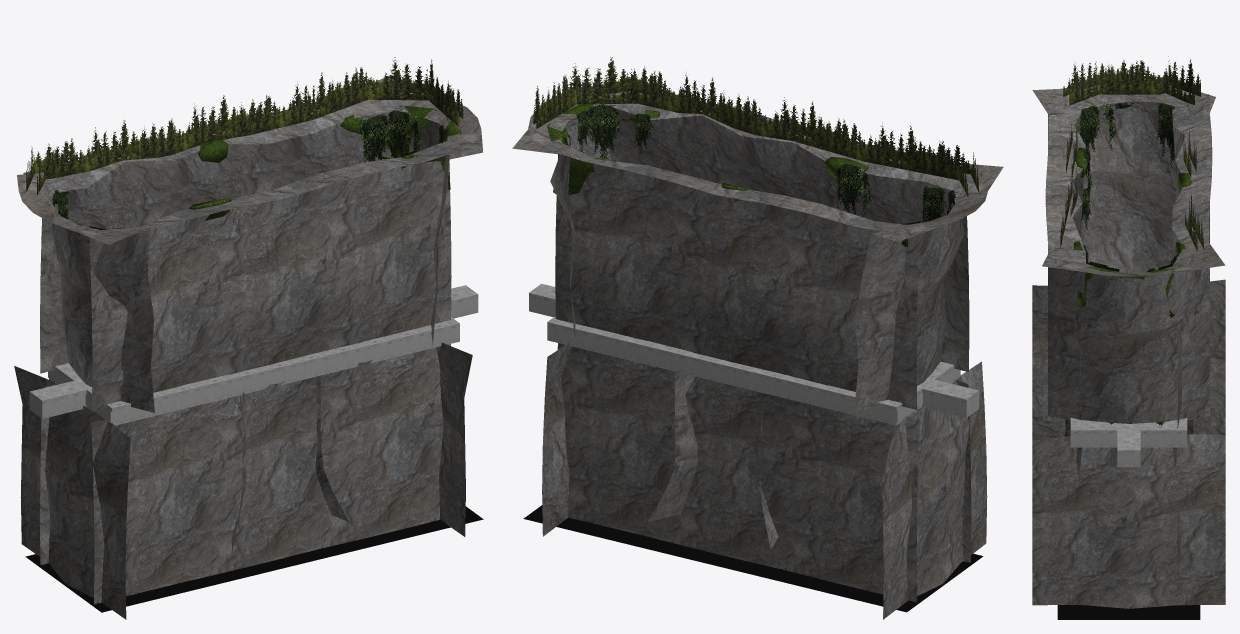
Rendered from test canyon.glb.
The picture shows the model from 3 angles, left to right: view 1: azimuth 30°, elevation 25°; view 2: azimuth 150°, elevation 25°; view 3: azimuth 270°, elevation 25°; orthographic projection. The views are drawn at different scales.
Visible parts, largest first — view 1: Plane.022, Plane.024, Plane.023, Plane.031, Plane.026, Cube.003, Cube.004, Plane.030, ceiling, Plane.032, wall.007, Plane.027 (+6 smaller); view 2: Plane.023, Plane.025, Plane.022, Plane.031, Plane.026, Cube.003, Cube.004, Plane.032, ceiling, Plane.030, wall.006, Cube.002 (+6 smaller); view 3: Plane.030, Plane.027, Plane.026, Plane.023, Plane.031, Plane.022, Cube.003, Cube.004, Plane.032, ceiling, Plane.034, wall.005 (+6 smaller).
Part boxes in pixels (x1,y1,x2,y2): Plane.022: (89,140,467,411); Plane.024: (91,344,450,604); Plane.023: (23,99,402,373); Plane.031: (14,366,130,619); Plane.026: (17,174,154,412); Cube.003: (37,67,459,195); Cube.004: (26,57,463,191); Plane.030: (436,342,472,536); ceiling: (29,285,478,411); Plane.032: (25,506,483,612); wall.007: (112,327,458,422); Plane.027: (378,74,483,344); Plane.023: (539,141,919,409); Plane.025: (557,343,919,602); Plane.022: (605,91,985,371); Plane.031: (882,361,987,619); Plane.026: (854,163,1003,411); Cube.003: (536,69,968,197); Cube.004: (533,57,978,192); Plane.032: (523,505,983,612); ceiling: (529,283,979,410); Plane.030: (542,342,572,536); wall.006: (548,326,896,421); Cube.002: (648,370,778,549); Plane.030: (1032,434,1225,608); Plane.027: (1042,244,1225,423); Plane.026: (1032,85,1215,273); Plane.023: (1172,94,1212,428); Plane.031: (1032,279,1225,440); Plane.022: (1045,94,1086,423); Cube.003: (1069,60,1197,251); Cube.004: (1060,56,1203,249); Plane.032: (1057,605,1200,619); ceiling: (1070,418,1187,453); Plane.034: (1073,241,1185,317); wall.005: (1140,433,1187,444).
Bounding box in the file's own units: 202 × 201 × 82.66.
11 materials, 9 textured.
